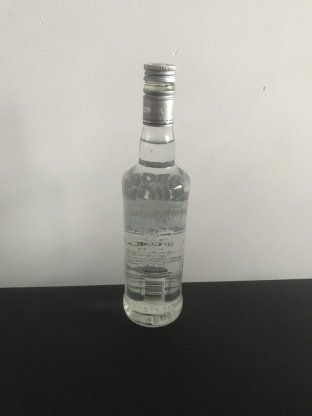nakretka: (141, 62, 176, 126)
